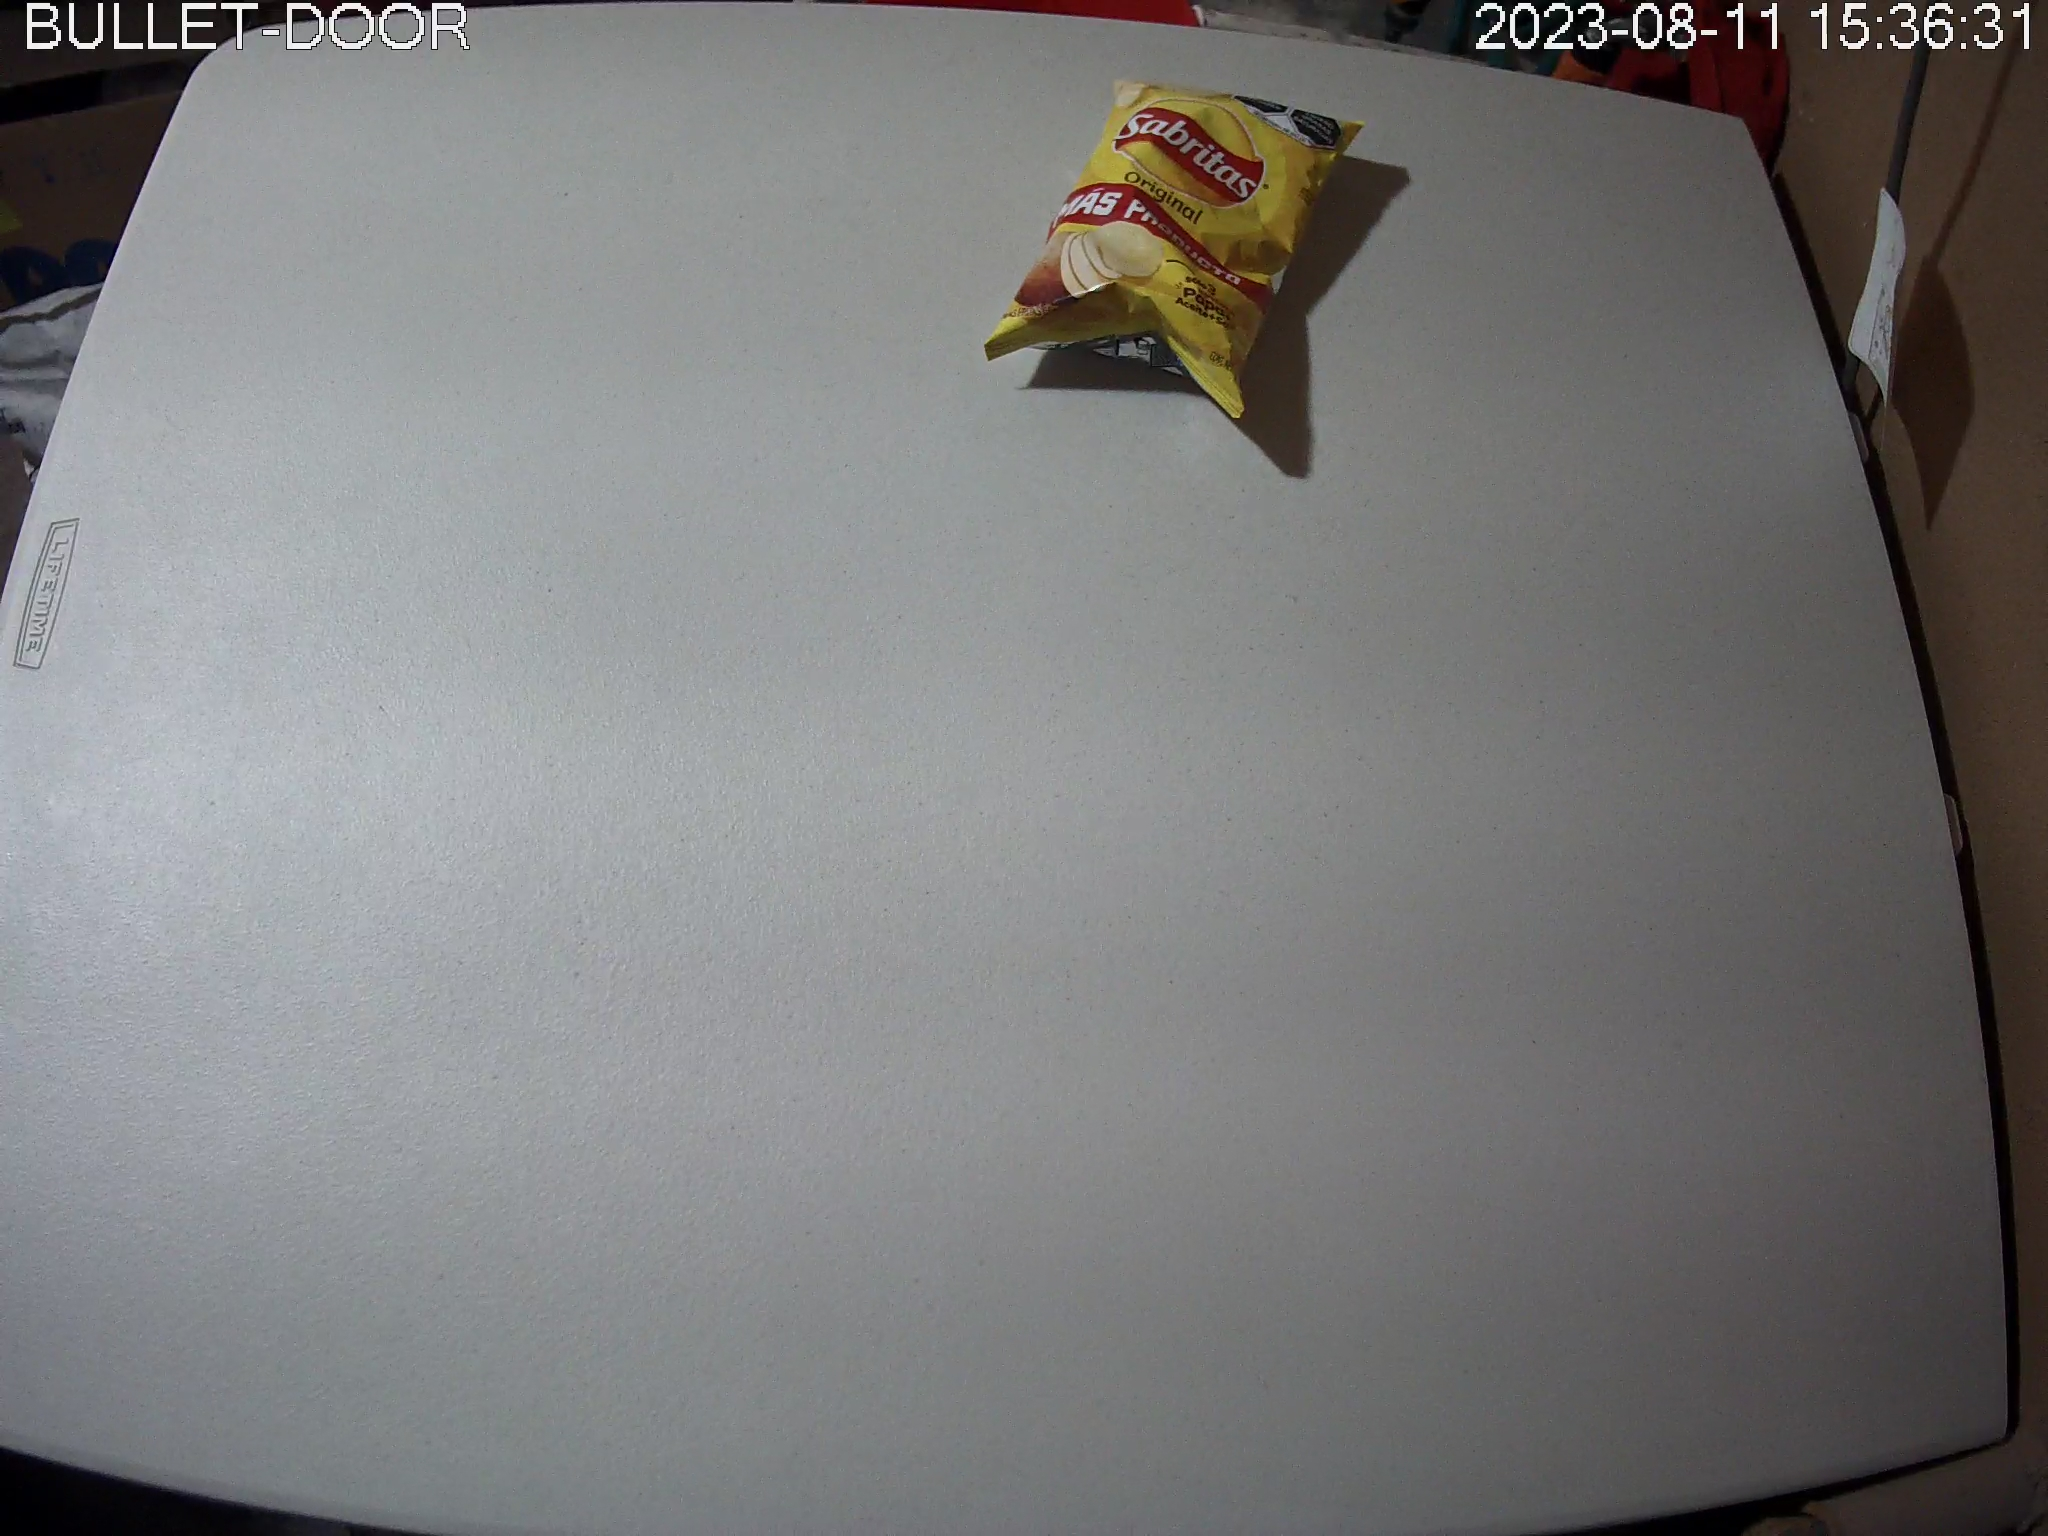Sabritas_45_F: (985, 74, 1367, 424)
